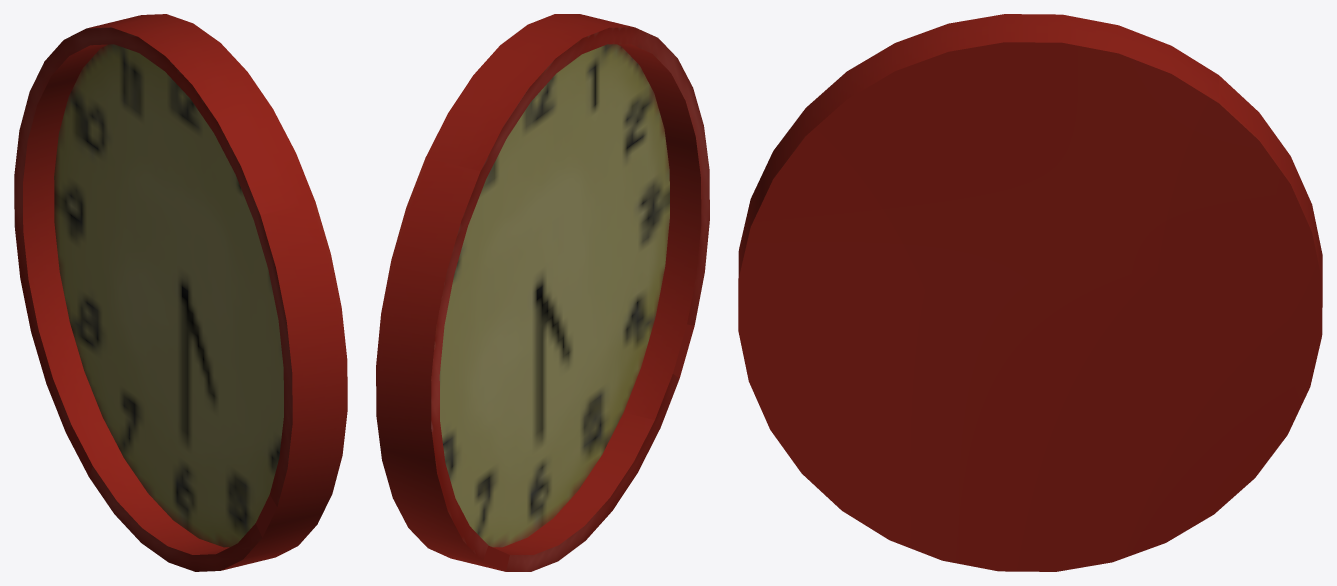
The model's file is Clock.fbx.
The picture shows the model from 3 angles, left to right: view 1: azimuth 30°, elevation 25°; view 2: azimuth 150°, elevation 25°; view 3: azimuth 270°, elevation 25°; orthographic projection. The views are drawn at different scales.
Parts seen in each view (by area): view 1: Clock; view 2: Clock; view 3: Clock.
Part boxes in pixels (x1,y1,x2,y2): Clock: (14,14,347,571); Clock: (376,14,709,571); Clock: (738,14,1322,571).
Size of the model in its own units: 4.55 by 39.85 by 39.85.
